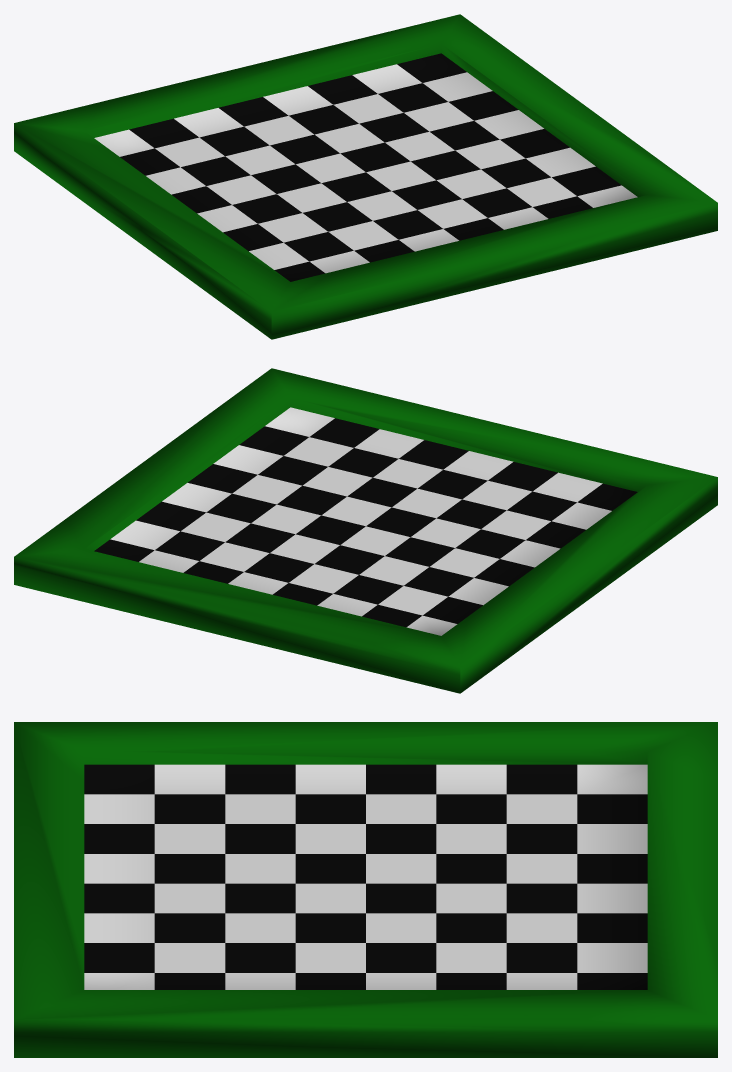
The model's file is board.fbx.
3 renders of one model, top to bottom at view 1: azimuth 30°, elevation 25°; view 2: azimuth 150°, elevation 25°; view 3: azimuth 270°, elevation 25°, orthographic. The views are drawn at different scales.
Parts seen in each view (by area): view 1: board; view 2: board; view 3: board.
Part boxes in pixels (x1=…): board: x1=14, y1=14, x2=717, y2=339; board: x1=14, y1=368, x2=717, y2=693; board: x1=14, y1=722, x2=717, y2=1057.
Size of the model in its own units: 50 by 3 by 50.
